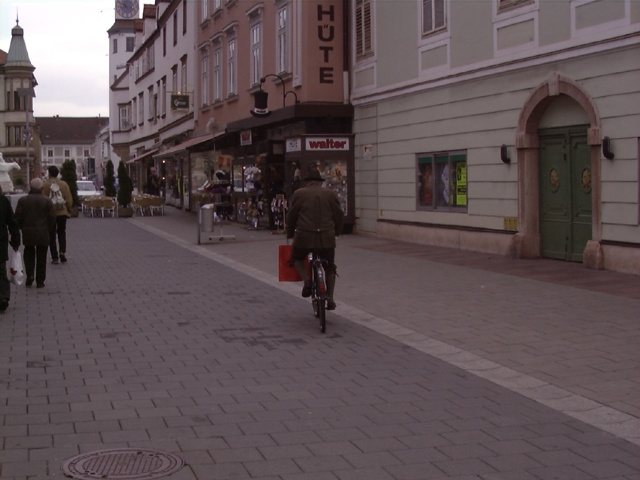person: (280, 165, 344, 327), (17, 176, 56, 289)
